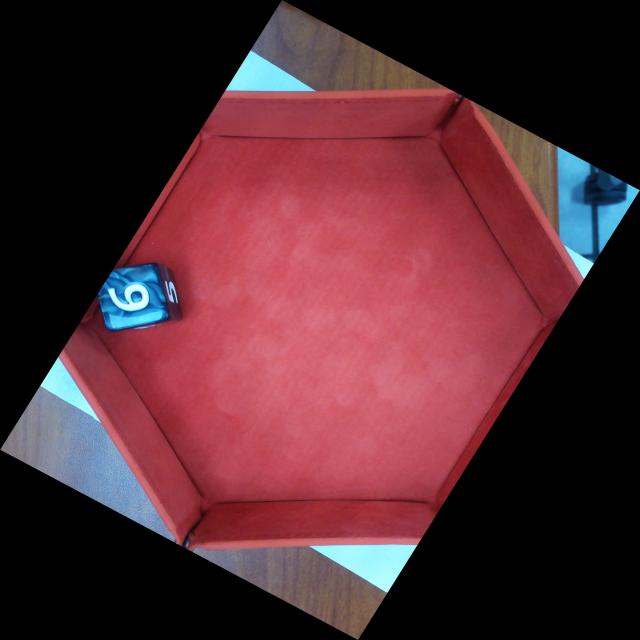dice: (90, 258, 174, 333)
